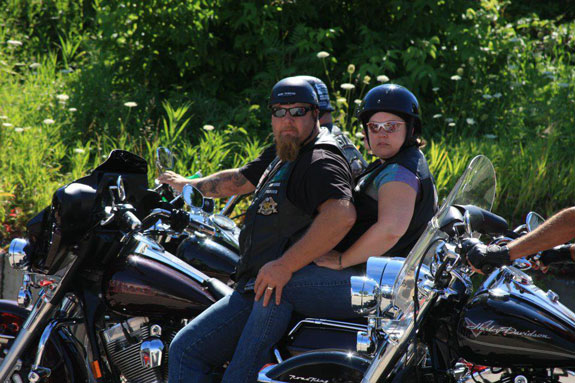with_helmet: (357, 77, 424, 164), (263, 71, 325, 158)
